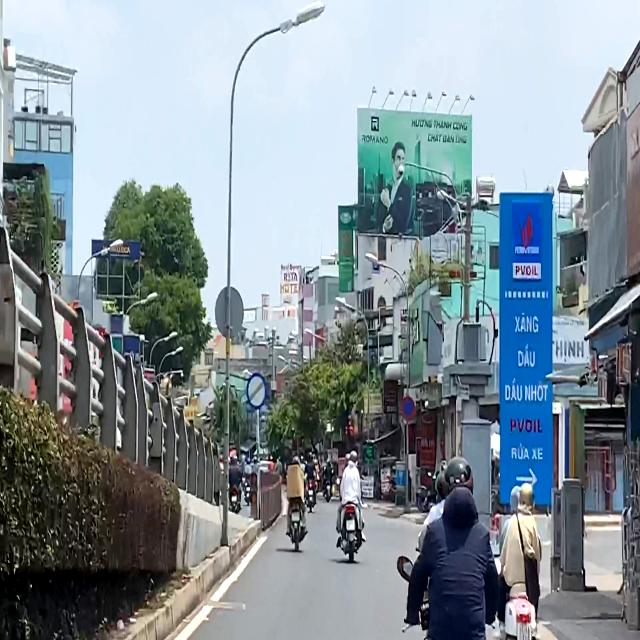DP.135: (246, 373, 267, 410)
P.131a: (401, 396, 415, 422)
